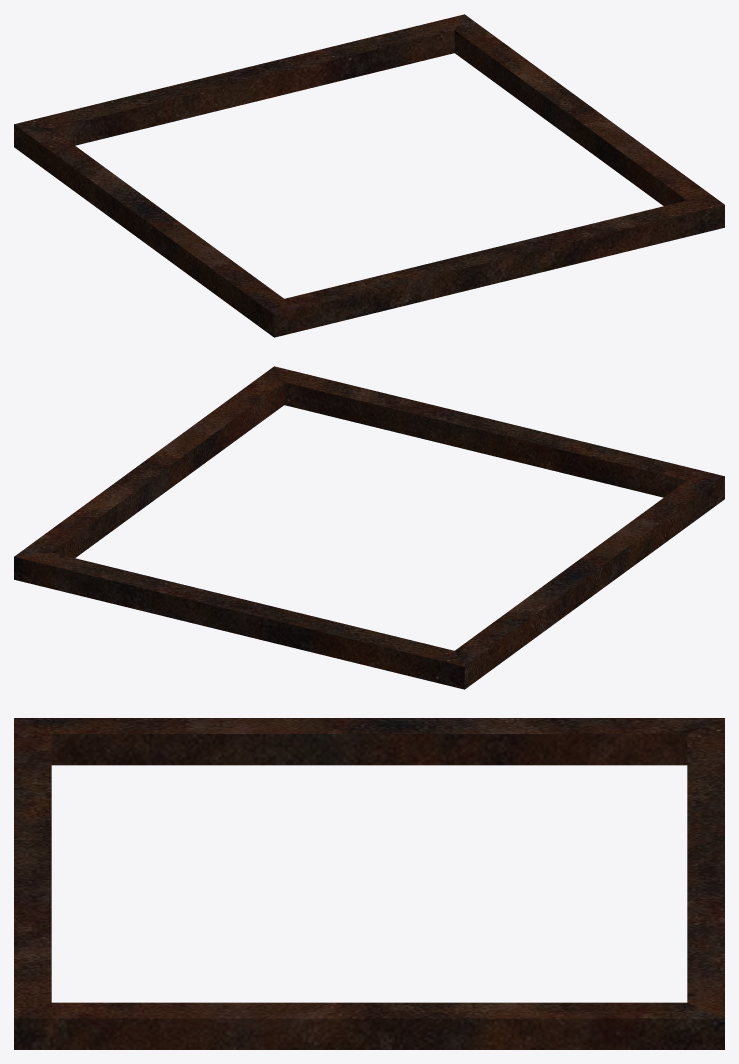
The model's file is metal_floor_frame_square_textured.glb.
The picture shows the model from 3 angles, top to bottom: view 1: azimuth 30°, elevation 25°; view 2: azimuth 150°, elevation 25°; view 3: azimuth 270°, elevation 25°; orthographic projection. The views are drawn at different scales.
Visible parts, largest first — view 1: Cube.001; view 2: Cube.001; view 3: Cube.001.
Part boxes in pixels (x1,y1,x2,y2): Cube.001: (14, 14, 724, 337); Cube.001: (14, 366, 724, 689); Cube.001: (14, 718, 724, 1049).
Size of the model in its own units: 1.99 by 0.0969 by 1.99.
1 material, 1 textured.
